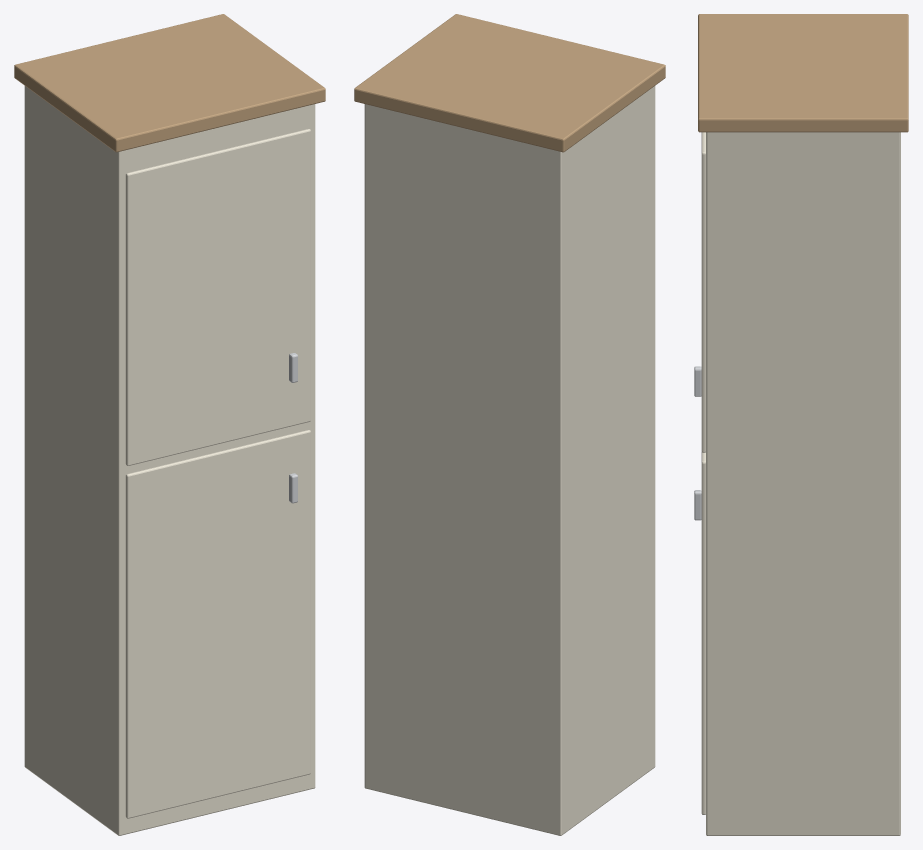
The model's file is v2_tall_cupboard.fbx.
3 renders of one model, left to right at view 1: azimuth 30°, elevation 25°; view 2: azimuth 150°, elevation 25°; view 3: azimuth 270°, elevation 25°, orthographic. The views are drawn at different scales.
Visible parts, largest first — view 1: Body.003, DoorLow, DoorHigh, Crown.001; view 2: Body.003, Crown.001; view 3: Body.003, Crown.001, DoorLow, DoorHigh.
Part boxes in pixels (x1,y1,x2,y2): Body.003: (24, 86, 315, 835); DoorLow: (125, 430, 310, 818); DoorHigh: (125, 129, 310, 465); Crown.001: (14, 14, 325, 152); Body.003: (364, 86, 655, 835); Crown.001: (354, 14, 665, 152); Body.003: (706, 132, 900, 835); Crown.001: (698, 14, 908, 132); DoorLow: (701, 452, 705, 814); DoorHigh: (701, 132, 705, 452).
Bounding box in the file's own units: 0.64 × 2.04 × 0.55.
